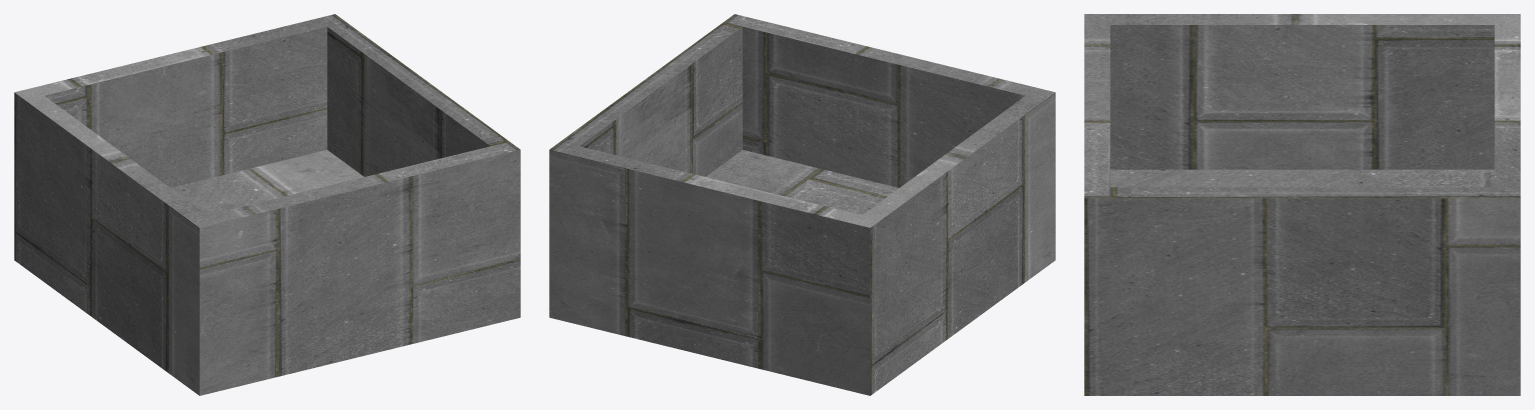
Rendered from pit.glb.
3 views of the same model, side by side, from view 1: azimuth 30°, elevation 25°; view 2: azimuth 150°, elevation 25°; view 3: azimuth 270°, elevation 25° (orthographic). The views are drawn at different scales.
Parts seen in each view (by area): view 1: Cube; view 2: Cube; view 3: Cube.
Part boxes in pixels (x1,y1,x2,y2): Cube: [14, 14, 520, 395]; Cube: [549, 14, 1055, 395]; Cube: [1084, 14, 1520, 395].
Bounding box in the file's own units: 20 × 10 × 20.
Materials: 1 (1 with a texture image).
